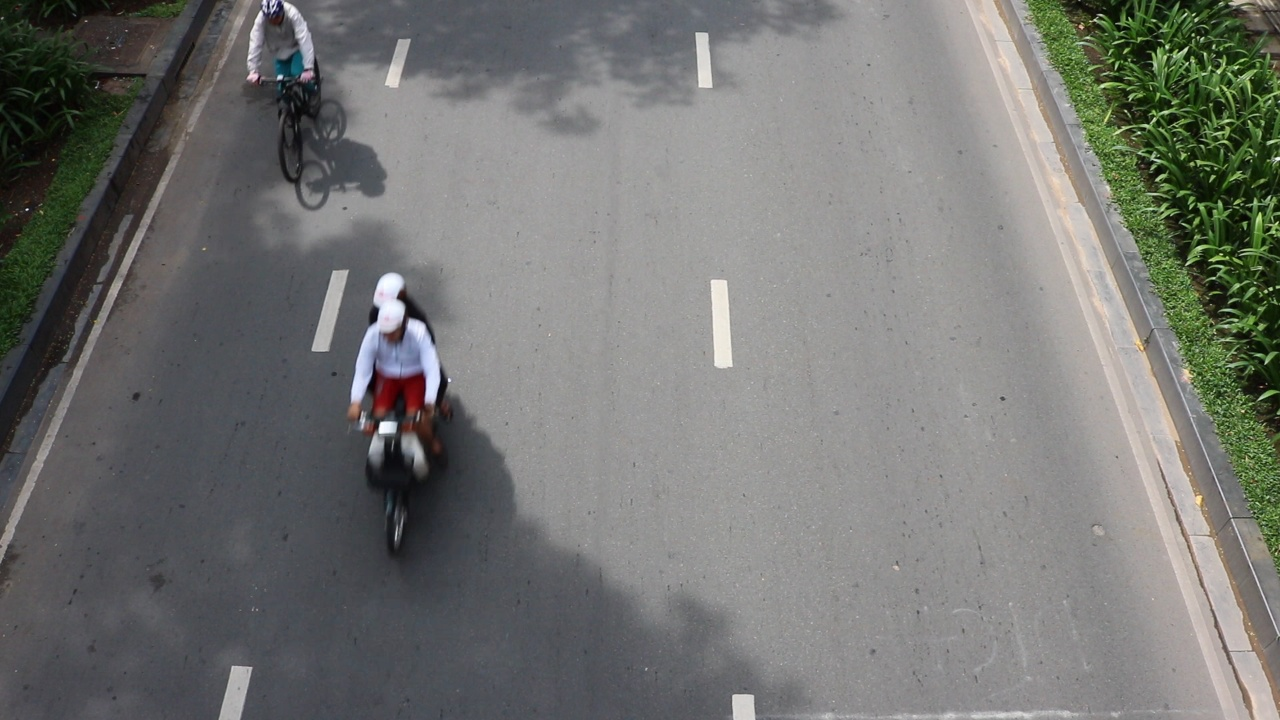bicycle: (275, 69, 347, 210)
motorcycle: (353, 407, 431, 550)
